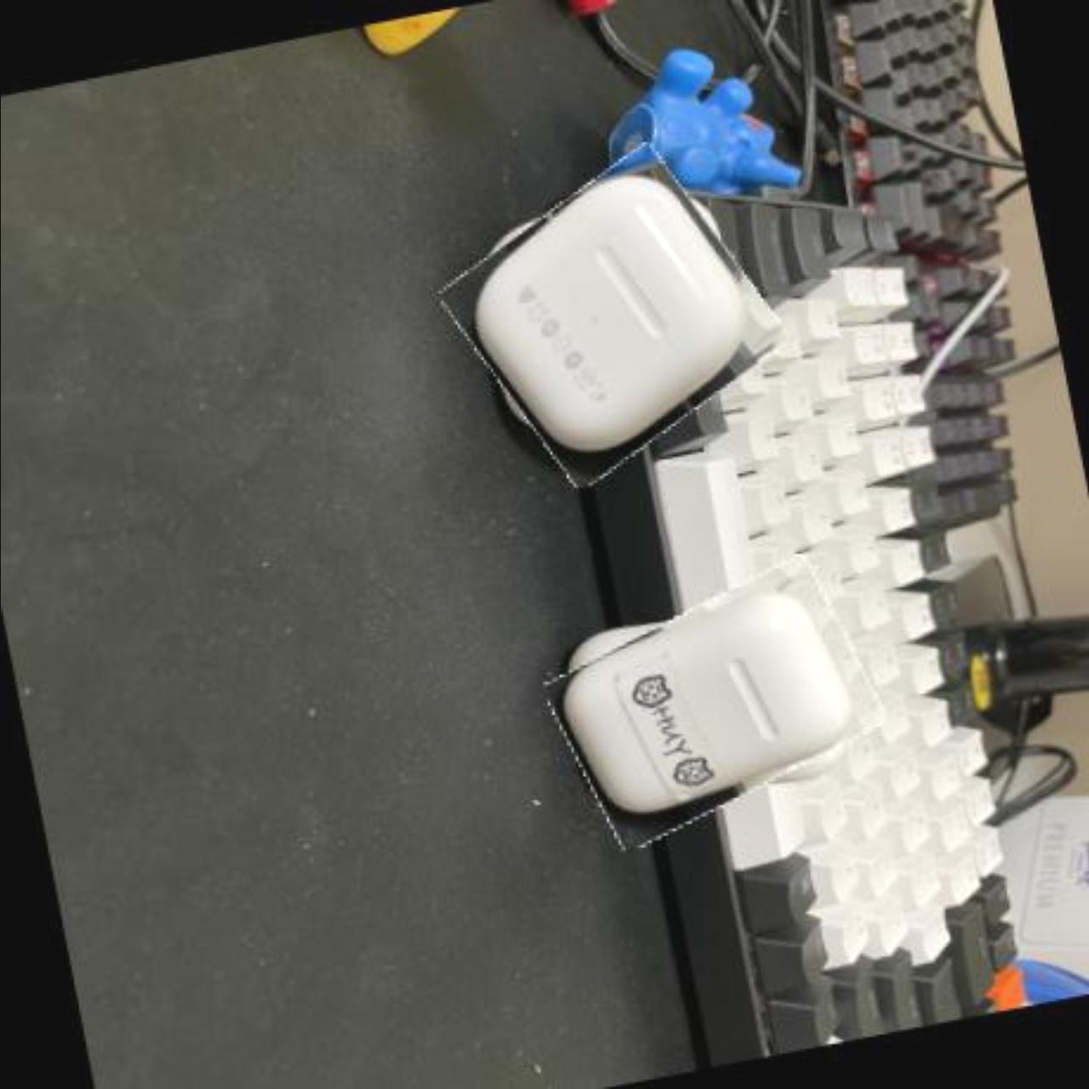AirPods: (439, 146, 787, 484), (539, 563, 889, 842)
